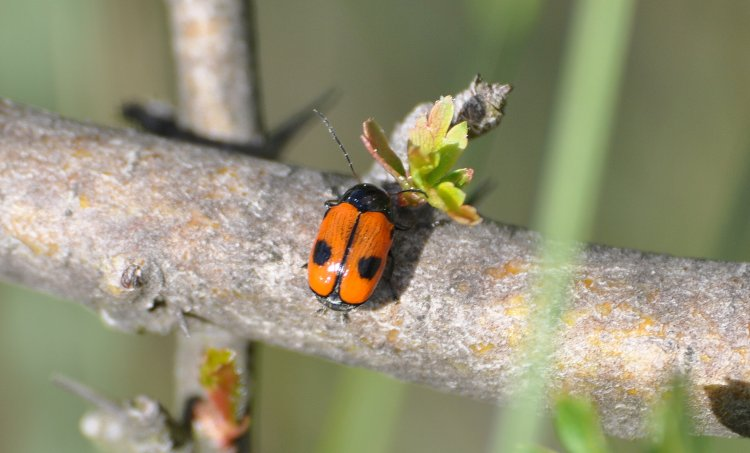Cryptocephalus_bipunctatus: (297, 101, 433, 323)
